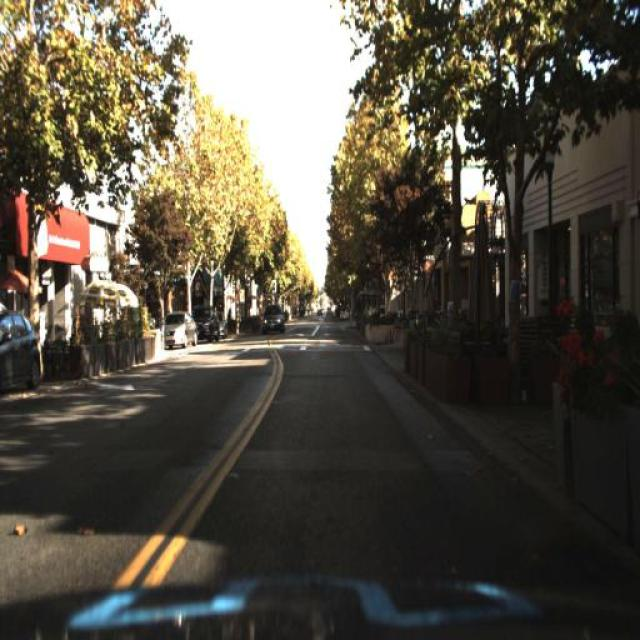car: (0, 310, 44, 396), (160, 310, 196, 356), (164, 306, 205, 346), (192, 306, 220, 342), (259, 300, 287, 336), (195, 304, 219, 340), (264, 298, 285, 331)
